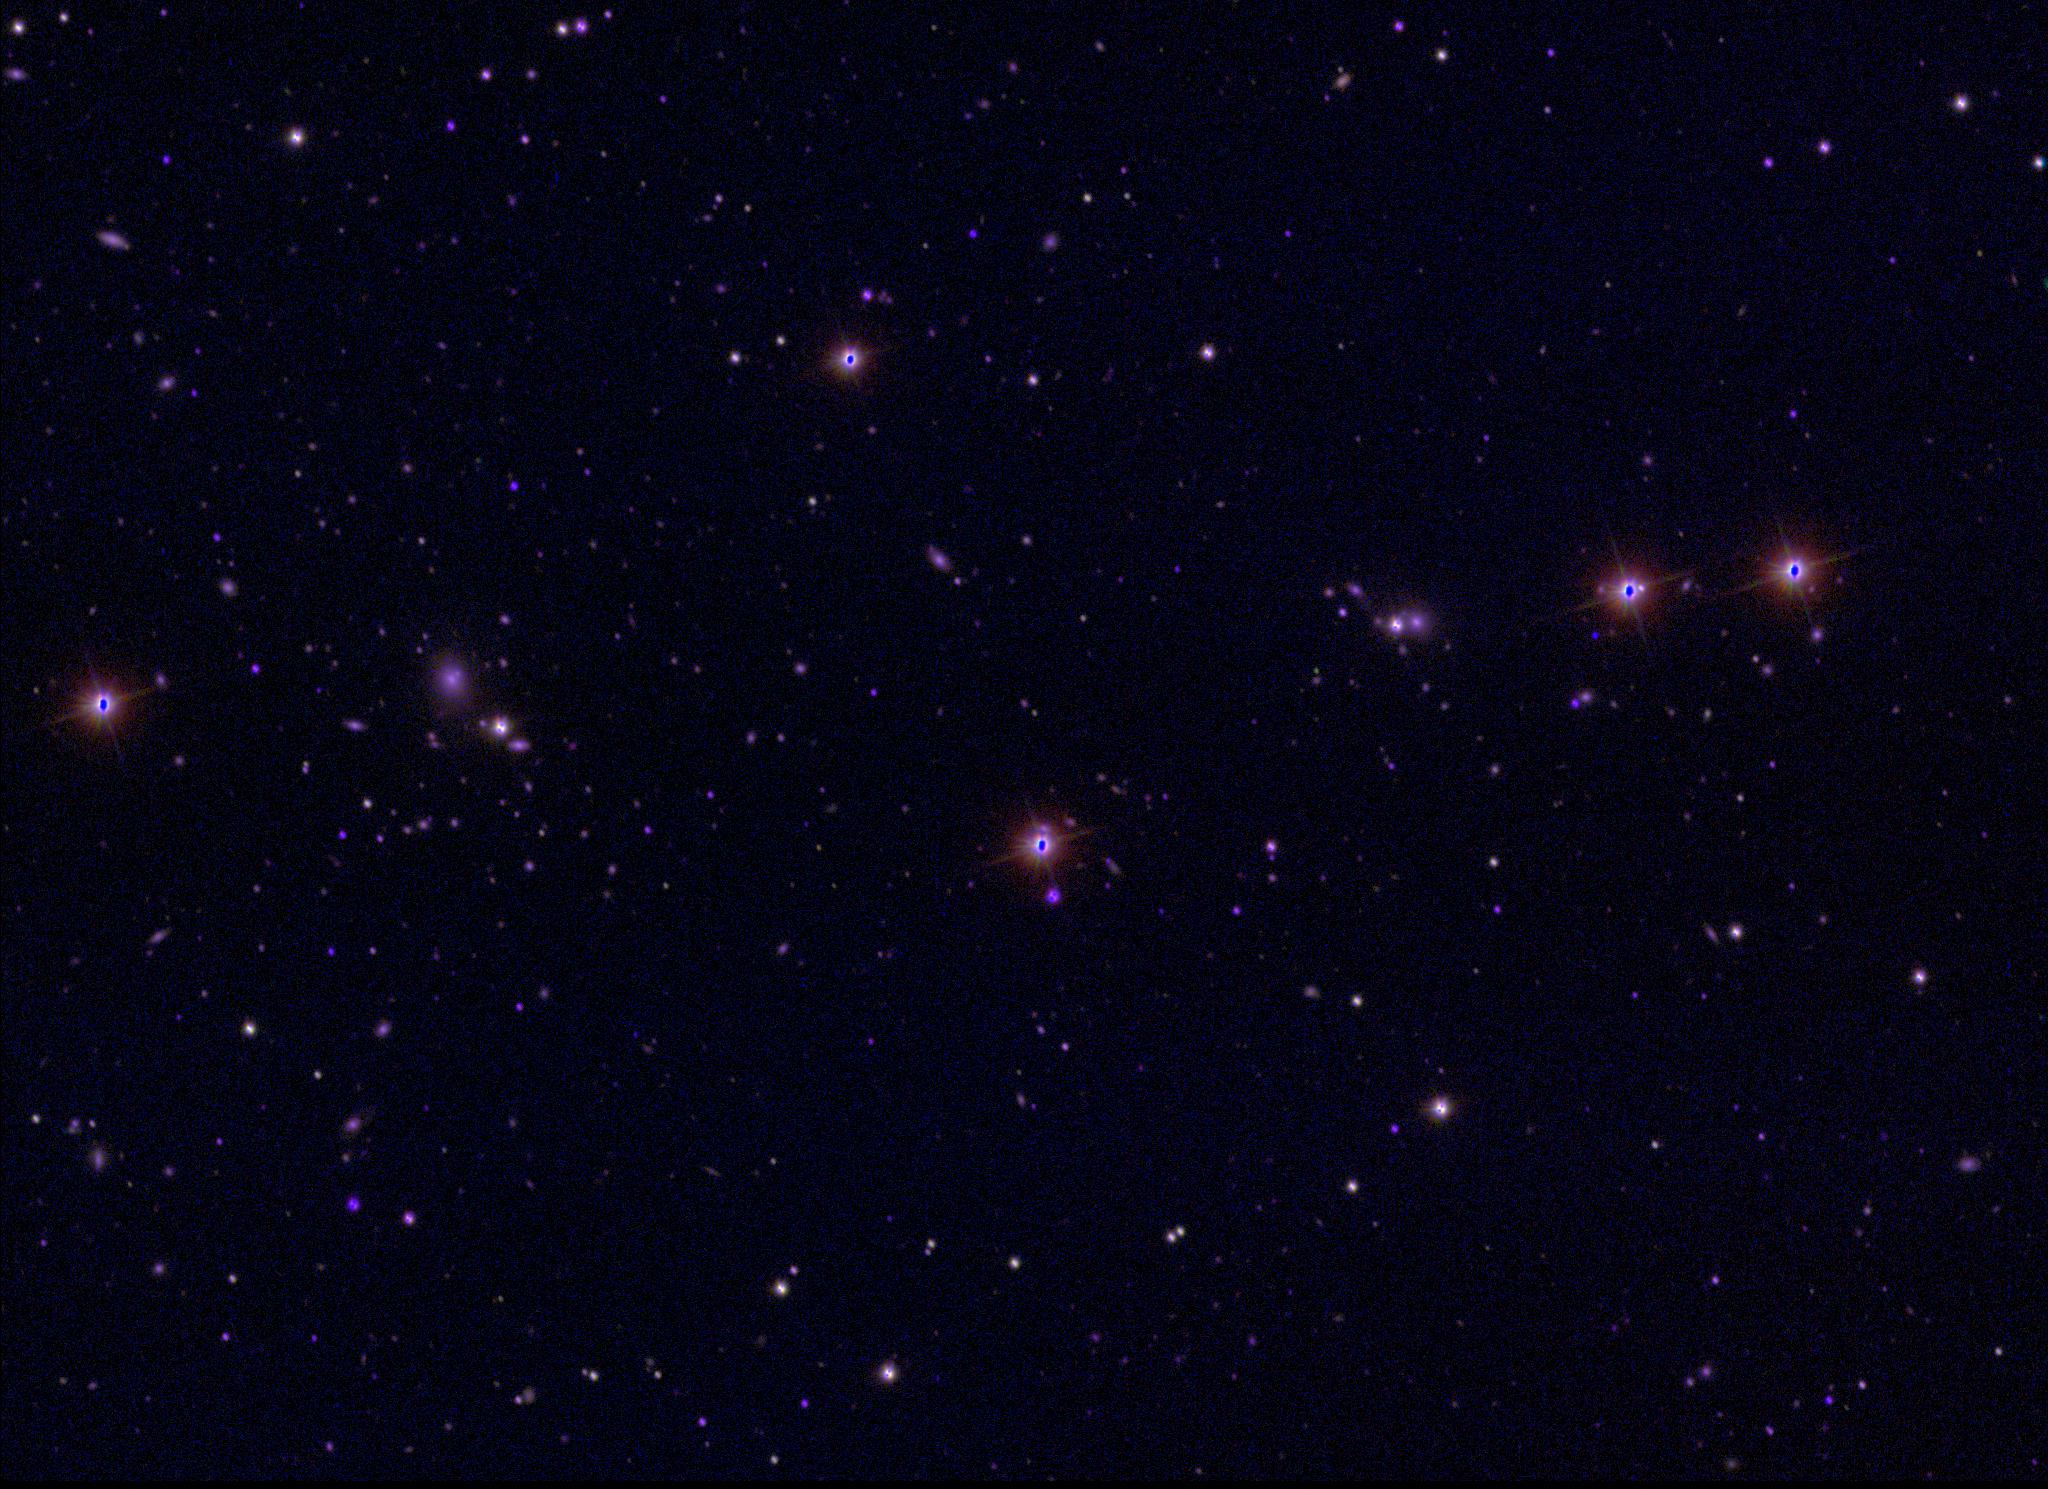L: (1585, 630, 1600, 644)
